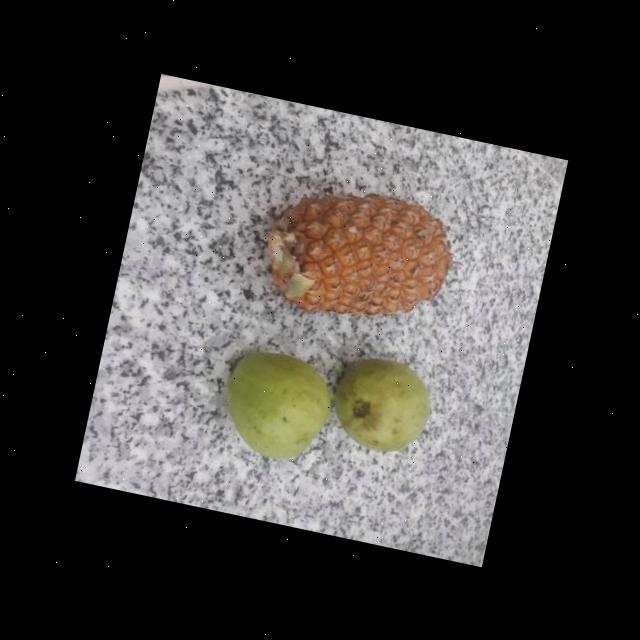guava: (212, 345, 336, 470), (324, 350, 436, 462)
pineapple: (254, 174, 459, 336)
